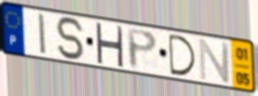D: (166, 32, 198, 78)
H: (94, 21, 125, 70)
I: (36, 12, 48, 57)
N: (197, 37, 232, 85)
P: (125, 27, 160, 72)
S: (54, 15, 87, 62)
